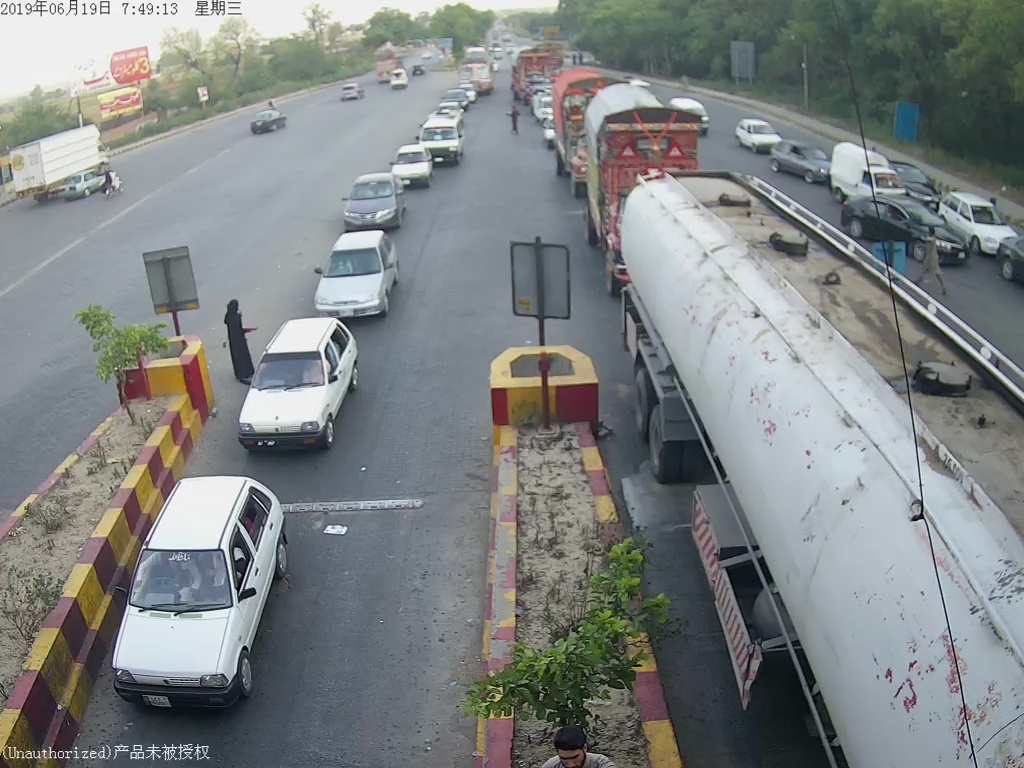Cat-1: (108, 472, 291, 702), (233, 319, 357, 454), (318, 229, 402, 322), (339, 167, 407, 227), (389, 141, 435, 188)
Cat-4: (582, 91, 687, 301), (545, 65, 600, 197)
